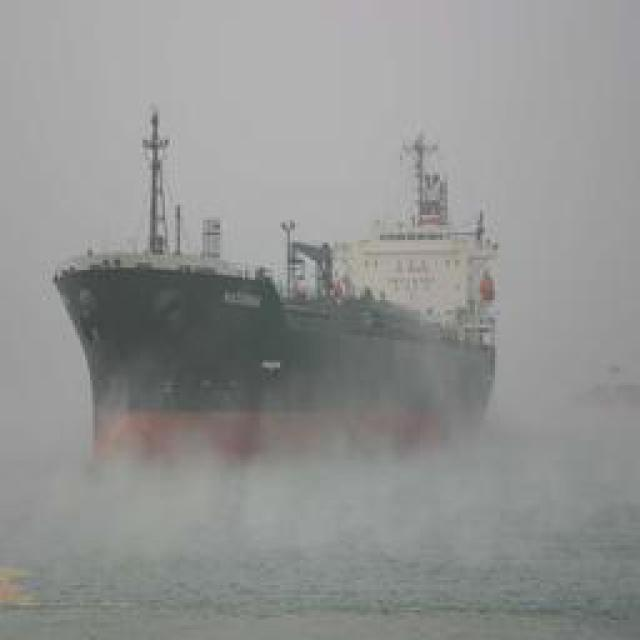Ship: (47, 97, 513, 473)
